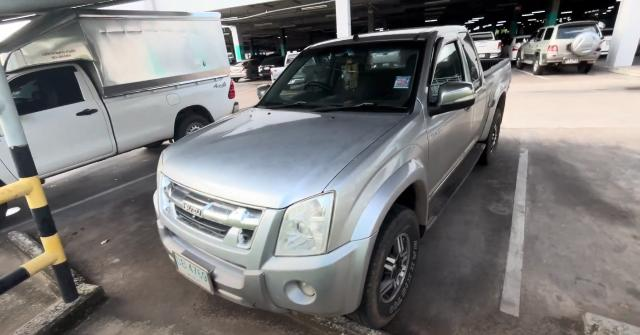pickup-truck: (150, 26, 511, 329)
